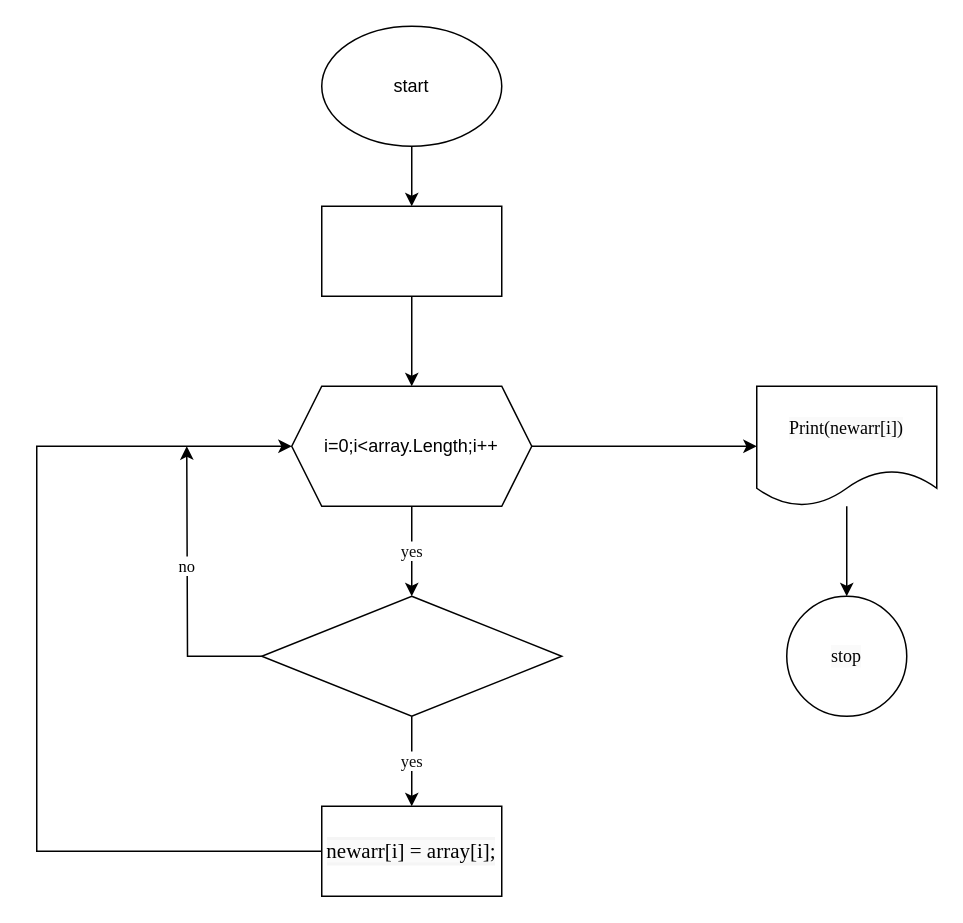
The diagram is 963 pixels wide and 923 high, and some of its shapes have lost their labels. The box of each missing label's shape, as (x1, y1, x2, y2) in pixels:
array[i].Lenght<=3: (260, 595, 562, 716)
string[]array string[]newarr: (320, 205, 502, 296)
